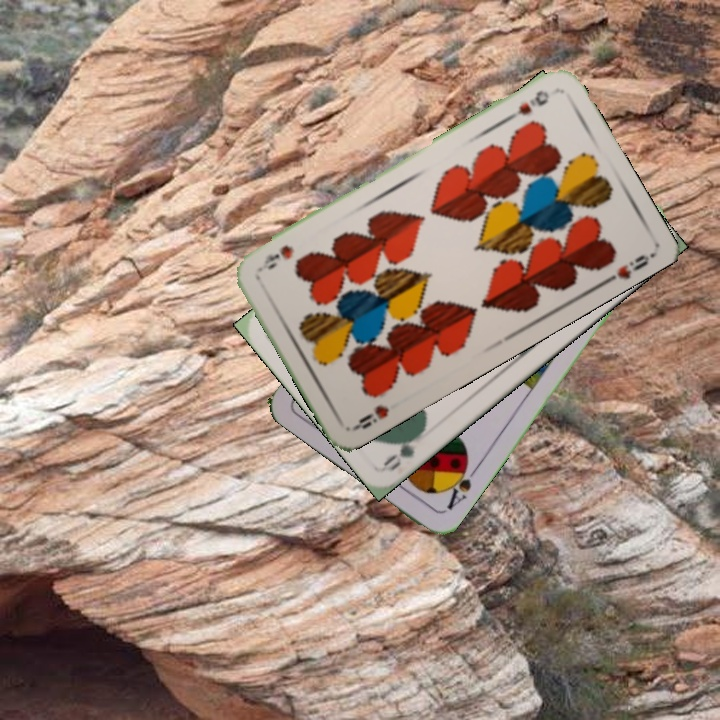GO: (380, 425, 428, 474)
H9: (504, 86, 552, 123), (350, 401, 392, 432)
SA: (440, 456, 481, 513)
